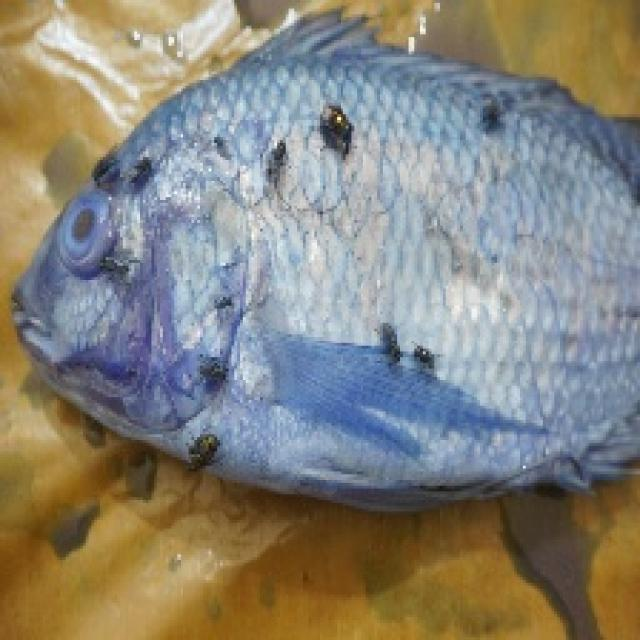Non-Fresh: (123, 78, 640, 494), (35, 171, 144, 283)
